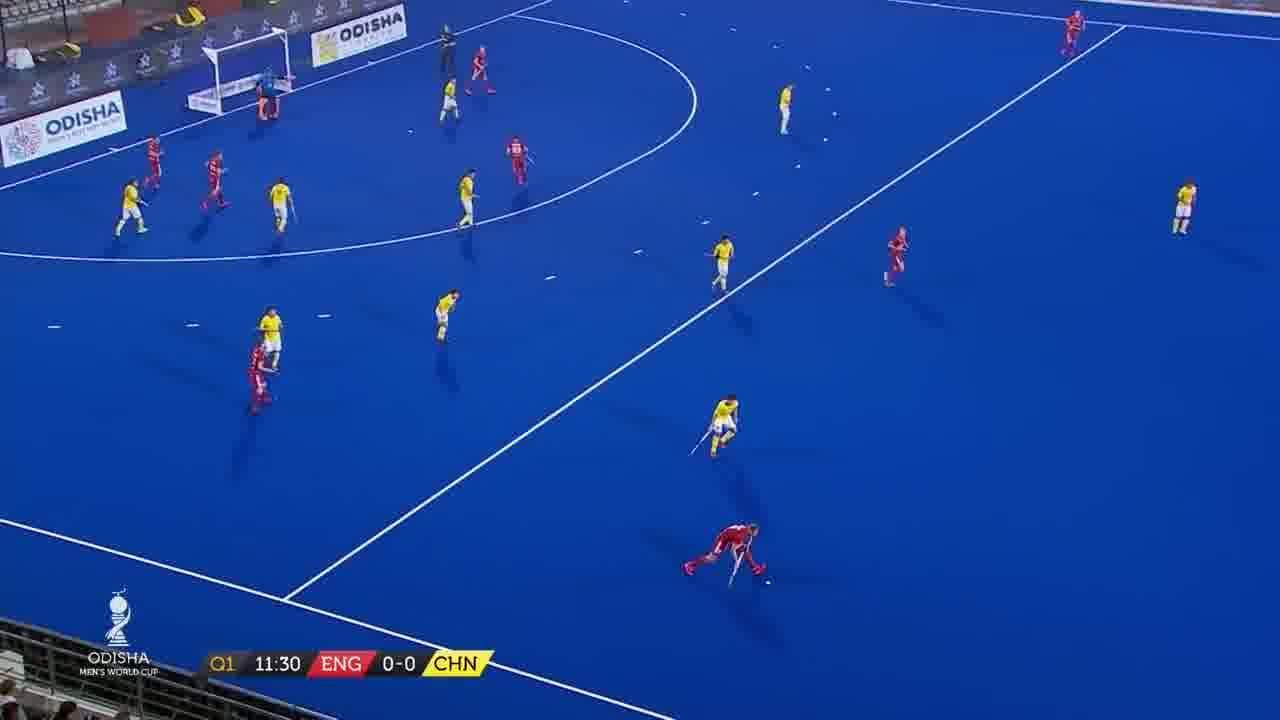ball: (756, 570, 788, 598)
